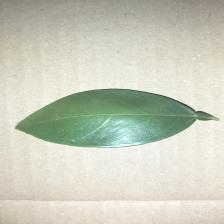healthy: (16, 96, 187, 148)
